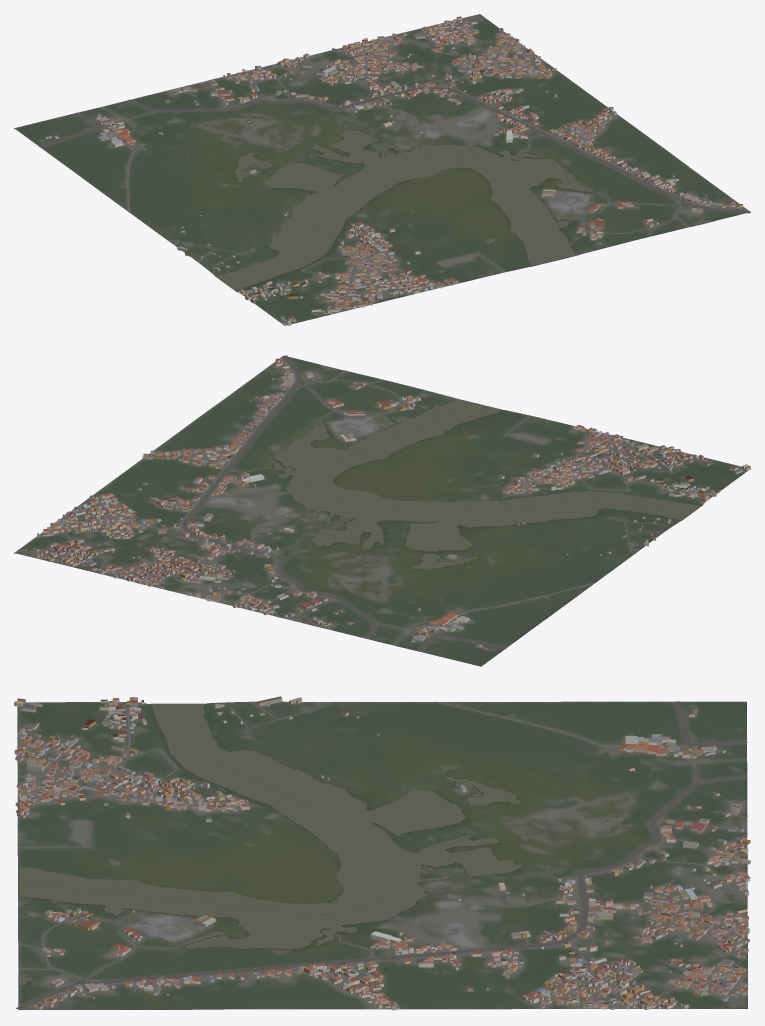
The picture shows the model from 3 angles, top to bottom: view 1: azimuth 30°, elevation 25°; view 2: azimuth 150°, elevation 25°; view 3: azimuth 270°, elevation 25°; orthographic projection. The views are drawn at different scales.
Parts seen in each view (by area): view 1: ground, water, buildings, roads; view 2: ground, water, buildings, roads; view 3: ground, water, buildings, roads.
Boxes of the visible parts, left/top/right/bottom form: ground: left=14, top=14, right=750, bottom=325; water: left=58, top=81, right=711, bottom=290; buildings: left=45, top=16, right=742, bottom=325; roads: left=39, top=17, right=750, bottom=311; ground: left=14, top=355, right=750, bottom=666; water: left=233, top=365, right=700, bottom=654; buildings: left=33, top=358, right=750, bottom=649; roads: left=29, top=355, right=711, bottom=652; ground: left=17, top=701, right=747, bottom=1009; water: left=17, top=703, right=741, bottom=985; buildings: left=14, top=696, right=750, bottom=1010; roads: left=16, top=701, right=748, bottom=1010.
Bounding box in the file's own units: 1409 × 19.03 × 1416.
